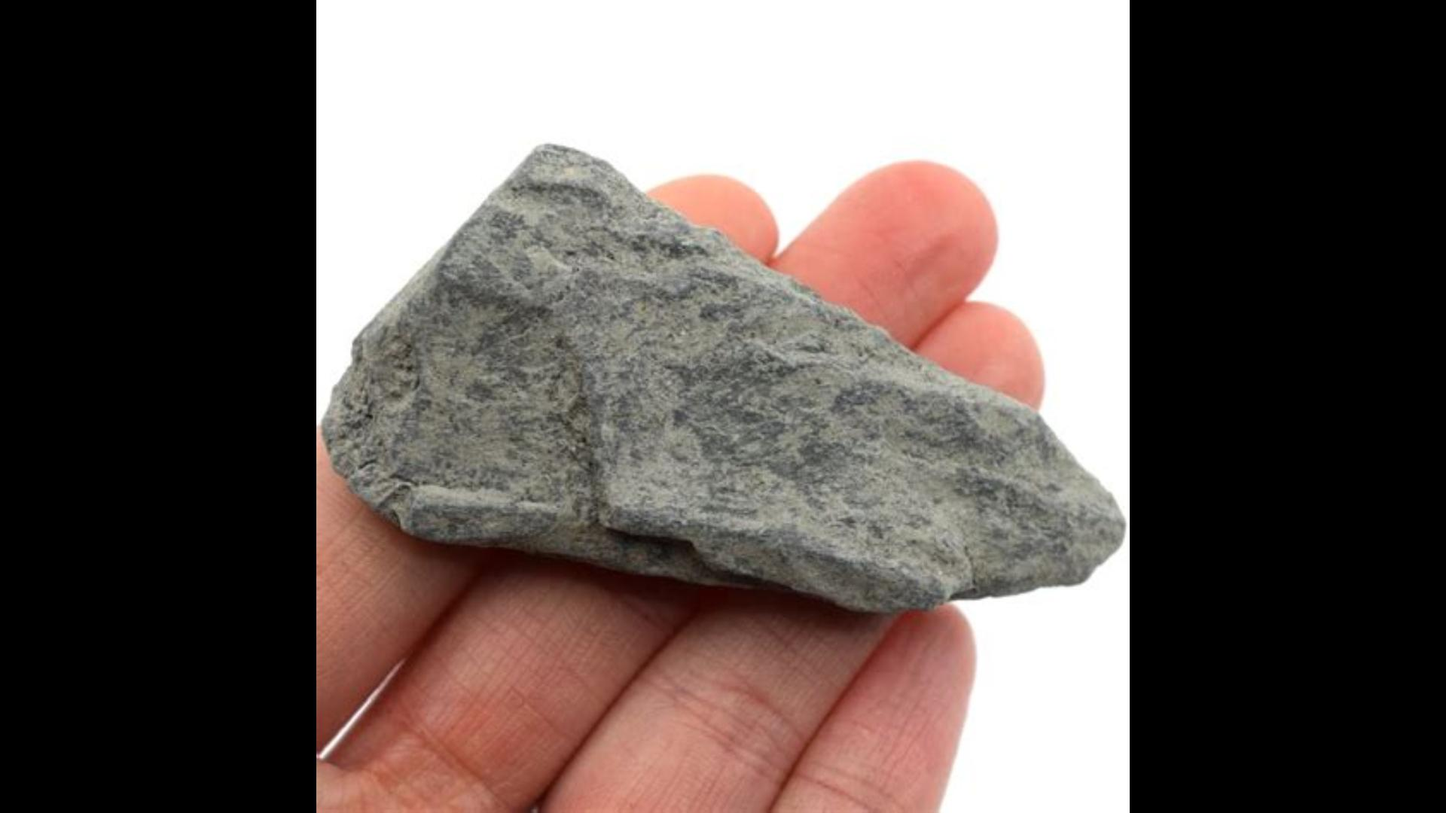rock: (323, 146, 1121, 609)
